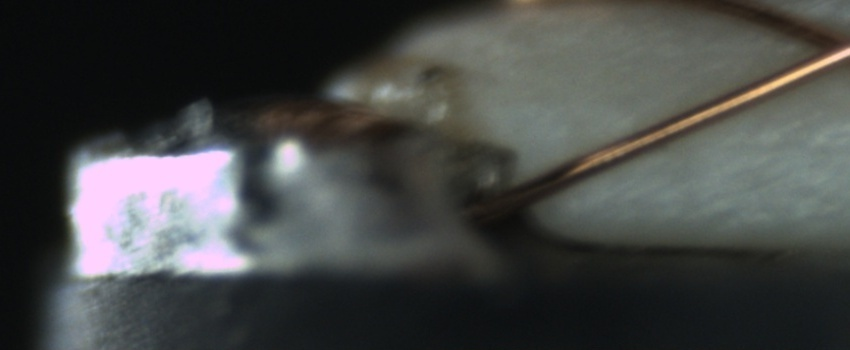CL: (776, 7, 850, 83)
DL: (692, 113, 848, 174)
